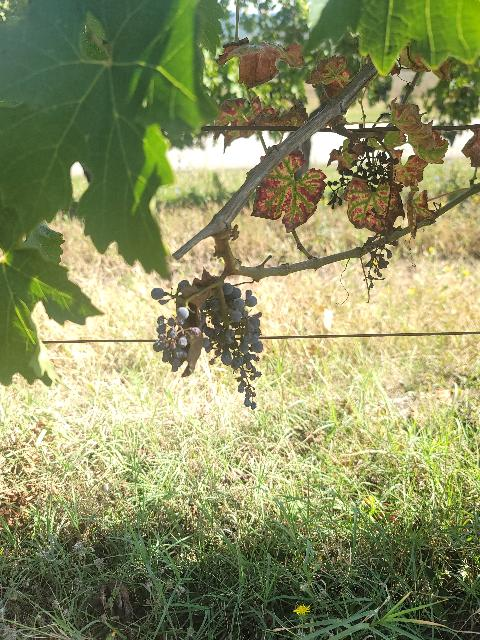grapes: (151, 271, 264, 409)
